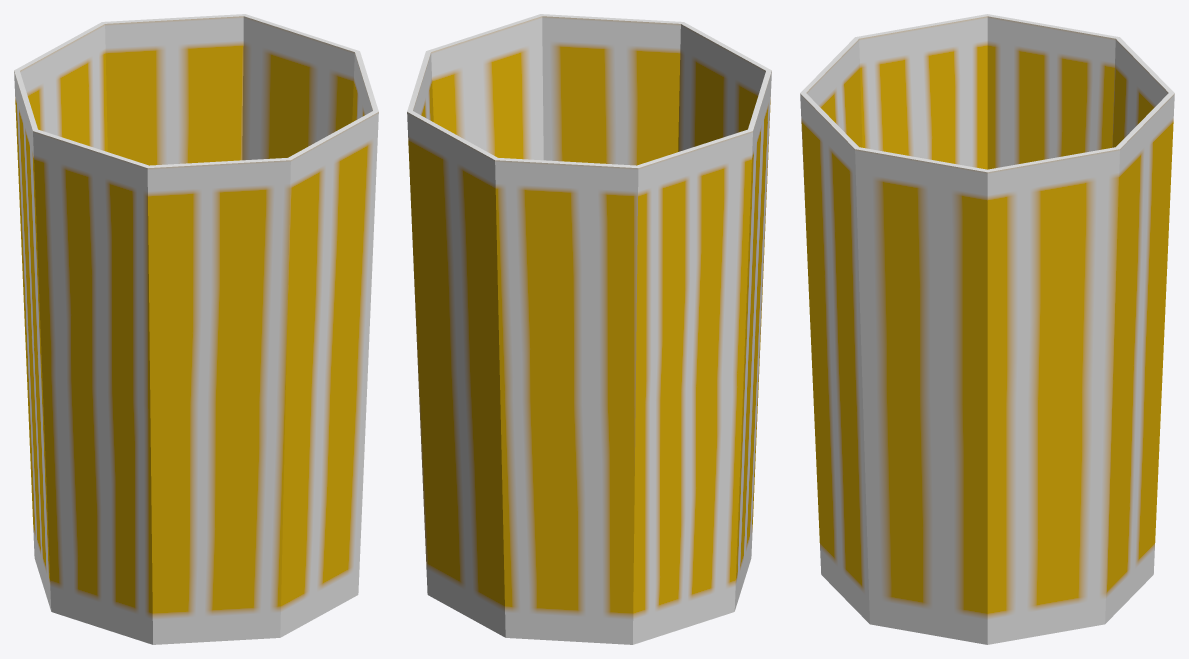
Rendered from JuiceCupD.fbx.
3 renders of one model, left to right at view 1: azimuth 30°, elevation 25°; view 2: azimuth 150°, elevation 25°; view 3: azimuth 270°, elevation 25°, orthographic.
Visible parts, largest first — view 1: JuiceCupD; view 2: JuiceCupD; view 3: JuiceCupD.
Boxes of the visible parts, x1,y1,x2,y2 form: JuiceCupD: (14, 14, 378, 644); JuiceCupD: (407, 14, 771, 644); JuiceCupD: (800, 14, 1174, 644).
Bounding box in the file's own units: 102 × 145 × 102.
